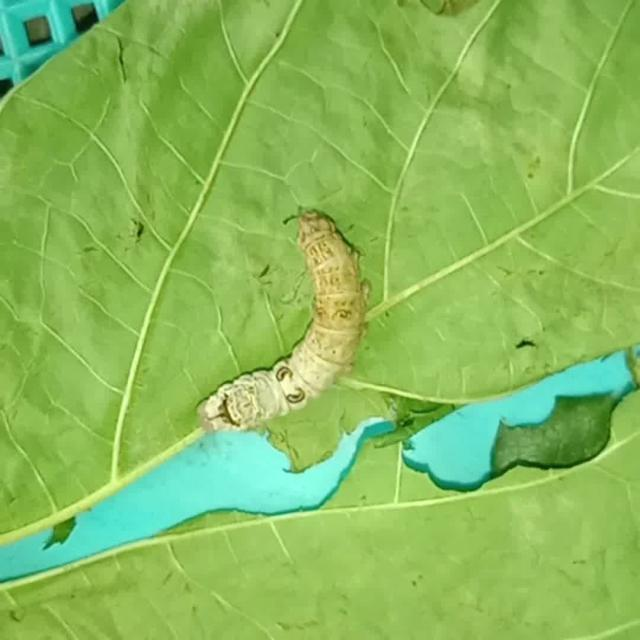Grasserie: (190, 206, 392, 436)
